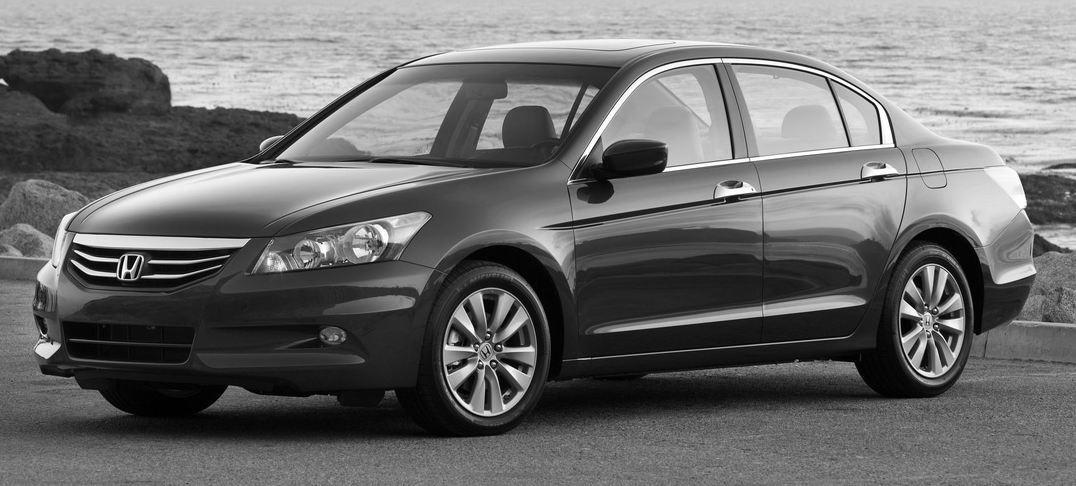car: (33, 46, 1036, 432)
